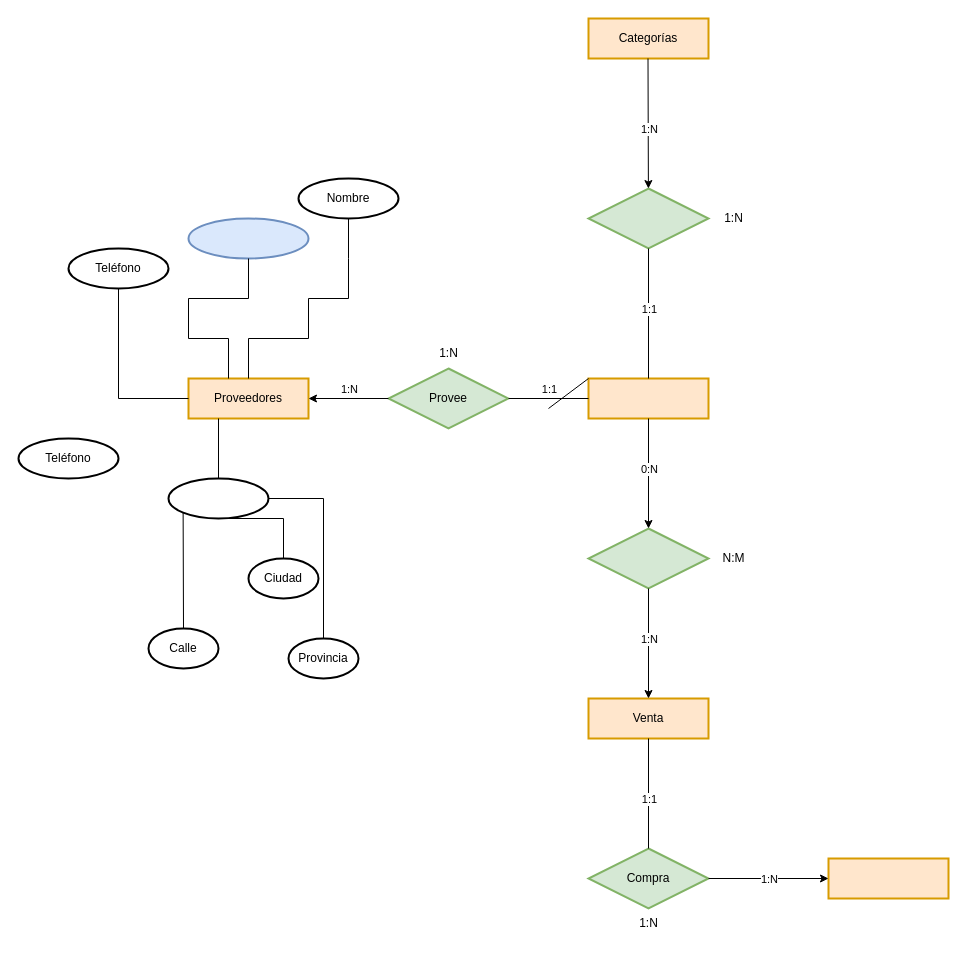
The diagram is 966 pixels wide and 955 high, and some of its shapes have lost their labels. Each missing label, with the centre of its shape:
"Clasifica" goes at [648,218].
"Clientes" goes at [888,878].
"Detalle" goes at [648,558].
"Dirección" goes at [218,498].
"Identificador" goes at [248,238].
"Productos" goes at [648,398].
